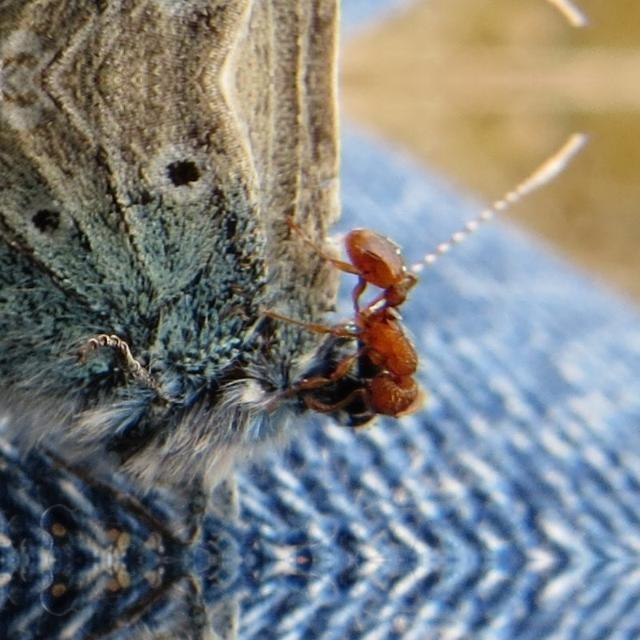Myrmica: (301, 208, 447, 434)
